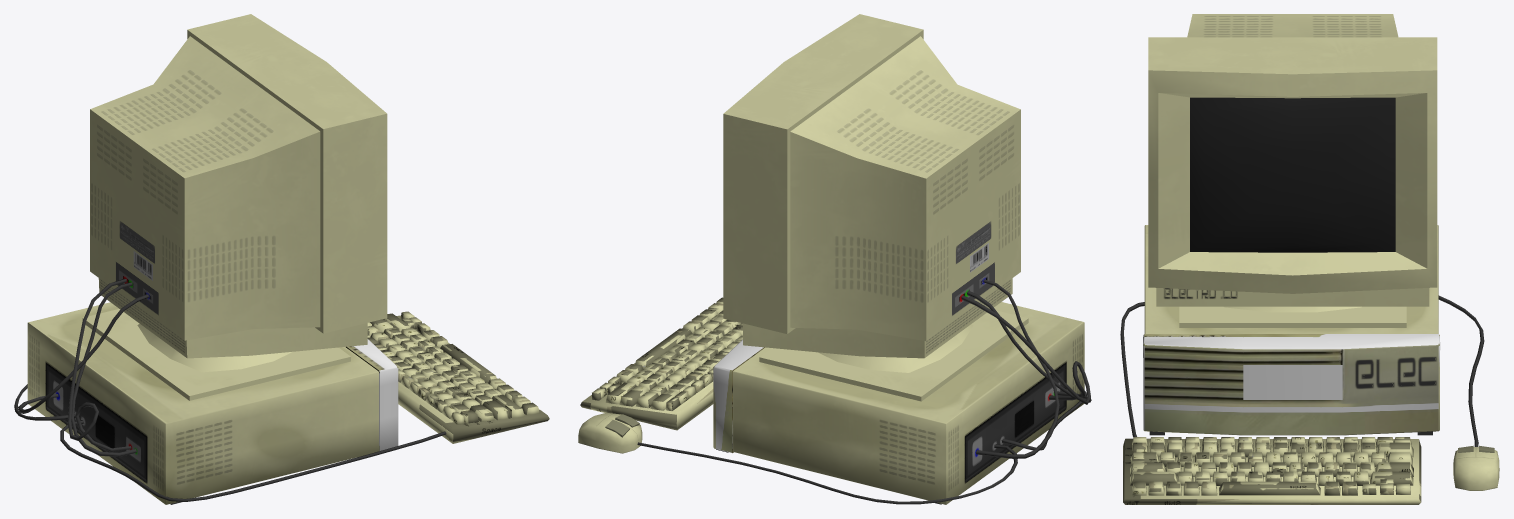
The model's file is Retro Pc.fbx.
The picture shows the model from 3 angles, left to right: view 1: azimuth 30°, elevation 25°; view 2: azimuth 150°, elevation 25°; view 3: azimuth 270°, elevation 25°; orthographic projection. The views are drawn at different scales.
Visible parts, largest first — view 1: Monitor_002.007, PC_004.007, KeyBoard_002.005, PC_004.005, NurbsPath.020, NurbsPath.014, NurbsPath.021; view 2: Monitor_002.007, PC_004.007, KeyBoard_002.005, PC_004.005, Mouse_001.005, NurbsPath.020, NurbsPath.016, NurbsPath.021; view 3: Monitor_002.007, PC_004.005, KeyBoard_002.005, PC_004.007, Mouse_001.005, NurbsPath.016, NurbsPath.014.
Part boxes in pixels (left/top/right/bottom): Monitor_002.007: left=82, top=14, right=387, bottom=400; PC_004.007: left=27, top=302, right=378, bottom=504; KeyBoard_002.005: left=367, top=311, right=549, bottom=443; PC_004.005: left=346, top=339, right=398, bottom=451; NurbsPath.020: left=67, top=278, right=136, bottom=456; NurbsPath.014: left=60, top=420, right=446, bottom=501; NurbsPath.021: left=18, top=294, right=148, bottom=413; Monitor_002.007: left=723, top=14, right=1028, bottom=401; PC_004.007: left=716, top=302, right=1084, bottom=504; KeyBoard_002.005: left=580, top=297, right=742, bottom=430; PC_004.005: left=713, top=339, right=764, bottom=453; Mouse_001.005: left=578, top=412, right=642, bottom=453; NurbsPath.020: left=961, top=290, right=1091, bottom=404; NurbsPath.016: left=637, top=442, right=1017, bottom=504; NurbsPath.021: left=976, top=279, right=1059, bottom=458; Monitor_002.007: left=1148, top=14, right=1437, bottom=327; PC_004.005: left=1143, top=334, right=1440, bottom=435; KeyBoard_002.005: left=1123, top=437, right=1421, bottom=504; PC_004.007: left=1144, top=225, right=1438, bottom=435; Mouse_001.005: left=1453, top=445, right=1499, bottom=490; NurbsPath.016: left=1438, top=295, right=1484, bottom=446; NurbsPath.014: left=1120, top=302, right=1144, bottom=437.
Size of the model in its own units: 74.59 by 56.72 by 54.09.
Materials: 7 (6 with a texture image).
